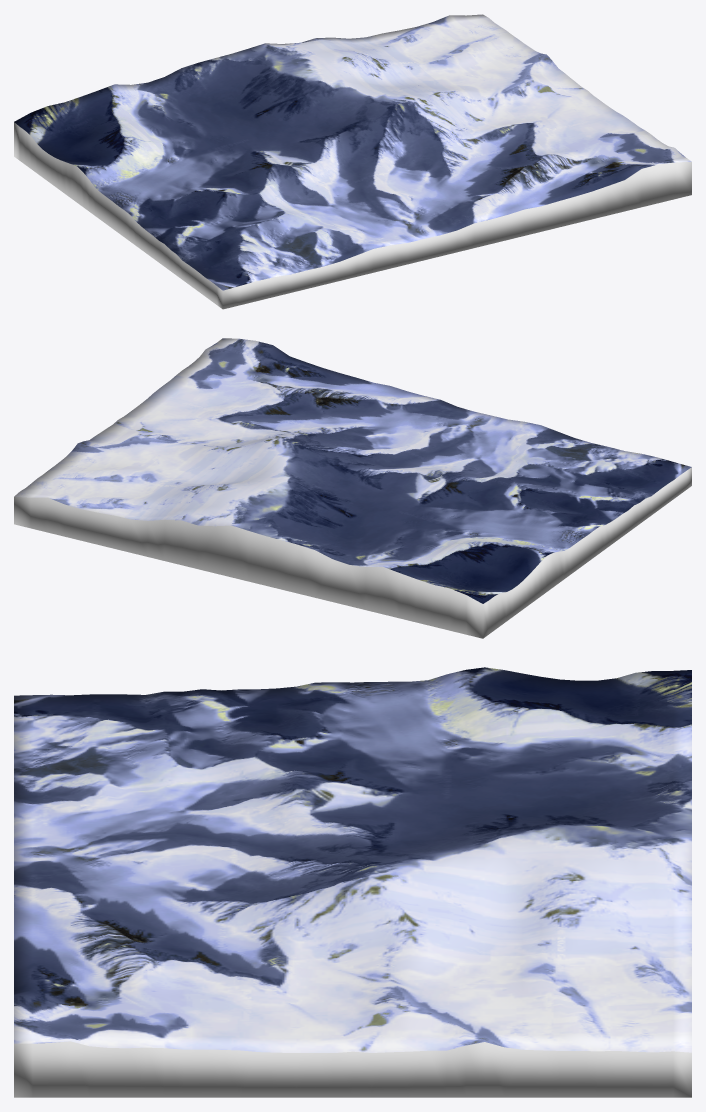
The model's file is Vinson Massif.glb.
3 views of the same model, one above another, from view 1: azimuth 30°, elevation 25°; view 2: azimuth 150°, elevation 25°; view 3: azimuth 270°, elevation 25° (orthographic). The views are drawn at different scales.
Visible parts, largest first — view 1: EXPORT_GOOGLE_SAT_WM; view 2: EXPORT_GOOGLE_SAT_WM; view 3: EXPORT_GOOGLE_SAT_WM.
Part boxes in pixels (box(x1,y1,x2,y2)): EXPORT_GOOGLE_SAT_WM: box(14, 14, 691, 309); EXPORT_GOOGLE_SAT_WM: box(14, 338, 691, 638); EXPORT_GOOGLE_SAT_WM: box(14, 667, 691, 1097).
Bounding box in the file's own units: 214 × 24.1 × 165.
2 materials, 1 textured.
